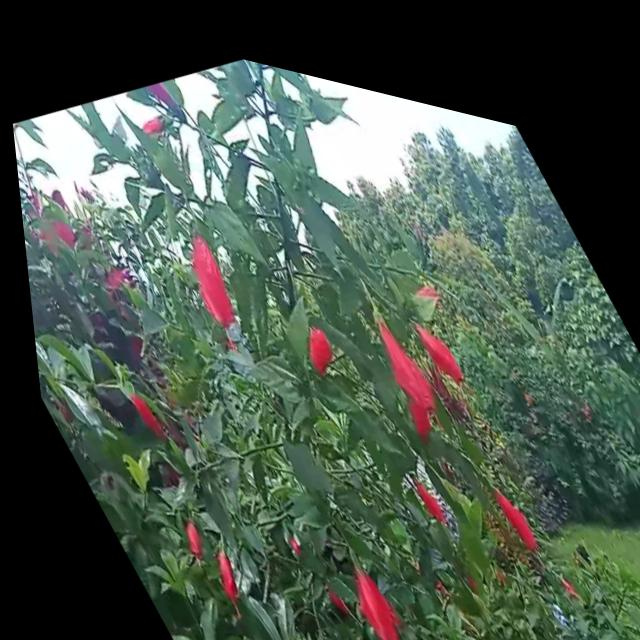Flower: (346, 280, 449, 428), (156, 200, 247, 327), (324, 531, 405, 640), (400, 286, 469, 379), (472, 442, 536, 537), (188, 527, 247, 604), (288, 303, 343, 369), (112, 378, 159, 439), (162, 506, 203, 555), (402, 453, 437, 506)
